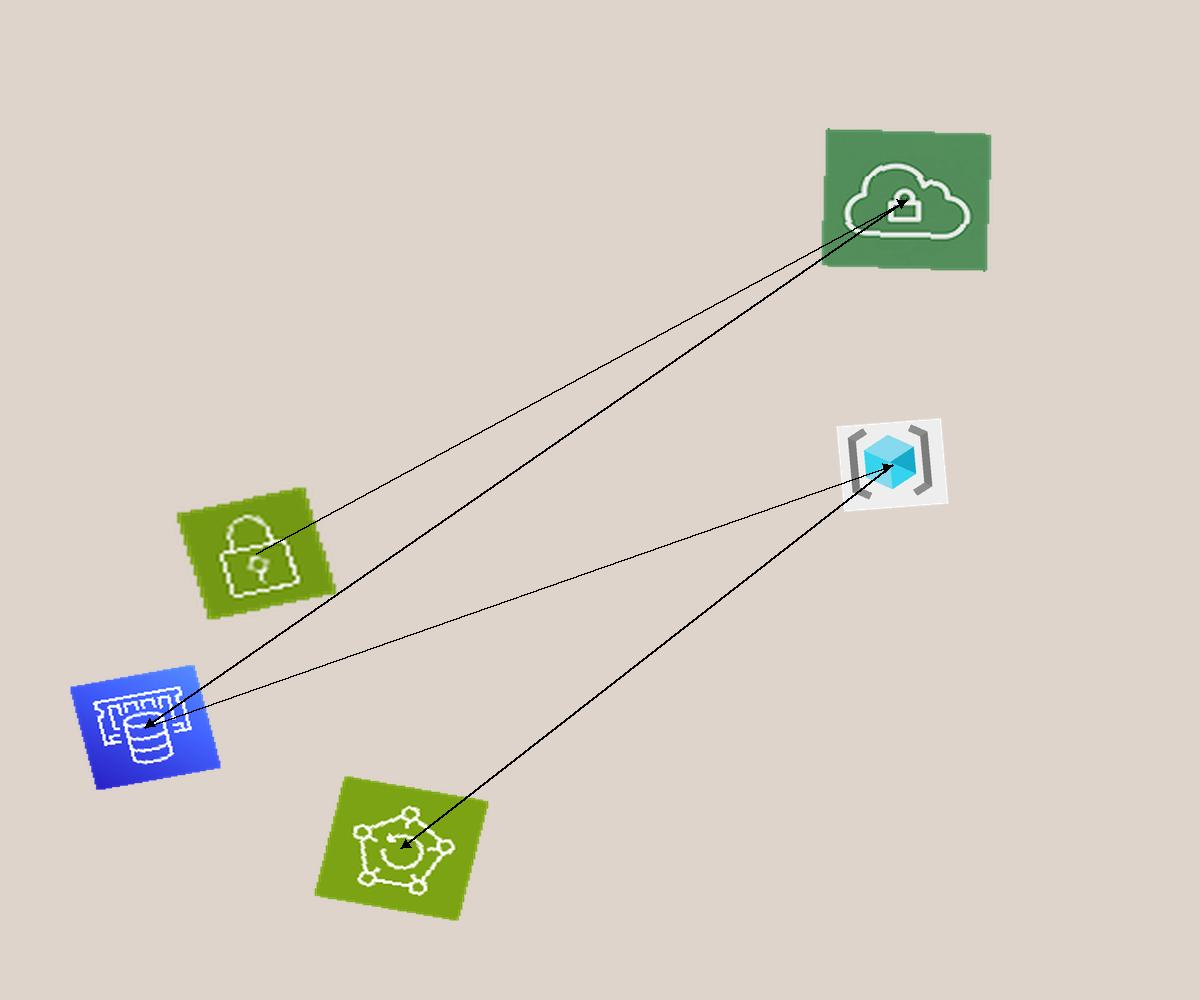AWS-Backup: (313, 775, 490, 922)
AWS-ElastiCache: (69, 664, 222, 791)
AWS-Private_vpc: (820, 128, 993, 272)
AWS-Public-subnet: (174, 485, 339, 622)
Azure_resource_group: (836, 418, 949, 512)
